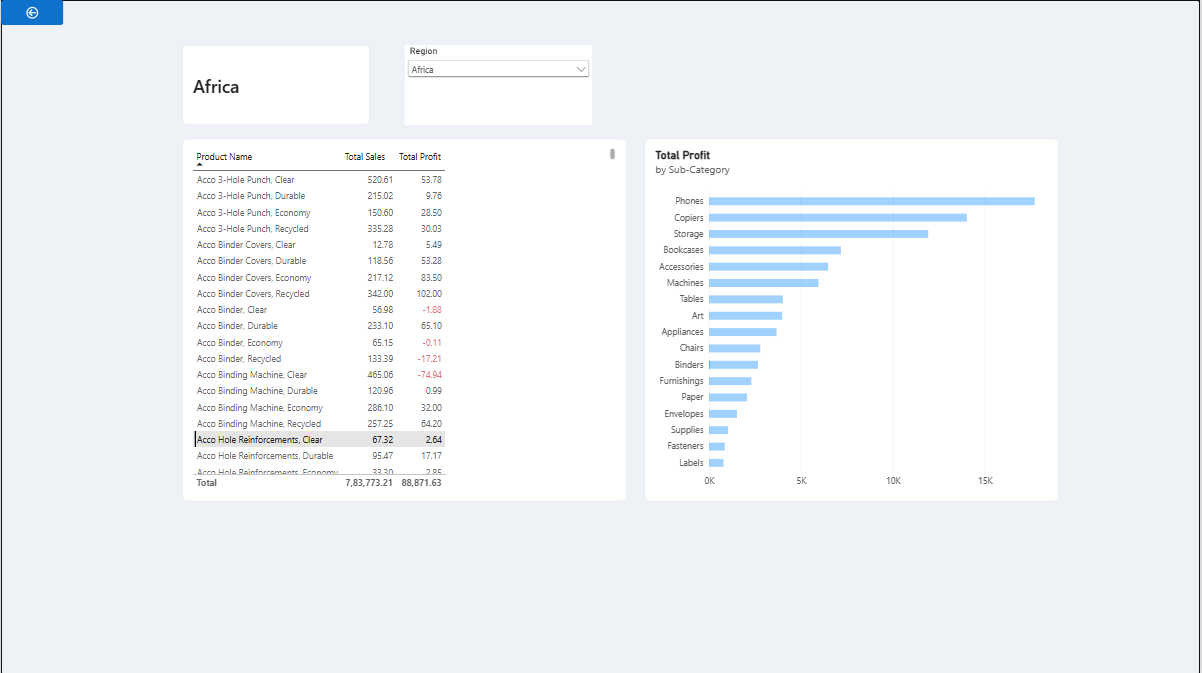

This screenshot's page, from the dashboard's own definition file:
{"tool":"powerbi","page":{"name":"Region Detail","canvas":[1920,1080],"ordinal":3},"visuals":[{"type":"actionButton","box":[0,0,100,40],"z":0},{"type":"cardVisual","fields":{"Data":["Min(Orders.Region)"]},"box":[290,72,300,127.5],"z":1000},{"type":"tableEx","fields":{"Values":["Orders.Product Name","Orders.Total Sales","Orders.Total Profit"]},"box":[290,222,710,580],"z":2000},{"type":"clusteredBarChart","fields":{"Category":["Orders.Sub-Category"],"Y":["Orders.Total Profit"]},"box":[1030,222,662,580],"z":3000},{"type":"slicer","fields":{"Values":["Orders.Region"]},"box":[646,72,300,128],"z":3001}]}

Visuals, with their boxes on the page's 1920x1080 design canvas (x1, y1, x2, y2). These are canvas units, not pixel positions in the 1202x673 screenshot, which may show the page scaled, cropped or inside an application window:
actionButton: l=0, t=0, r=100, b=40
cardVisual - Min(Orders.Region): l=290, t=72, r=590, b=200
tableEx - Orders.Product Name x Orders.Total Sales: l=290, t=222, r=1000, b=802
clusteredBarChart - Orders.Sub-Category x Orders.Total Profit: l=1030, t=222, r=1692, b=802
slicer - Orders.Region: l=646, t=72, r=946, b=200
